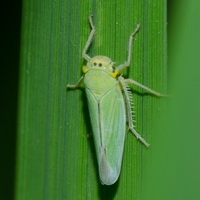insect: (67, 15, 164, 184)
